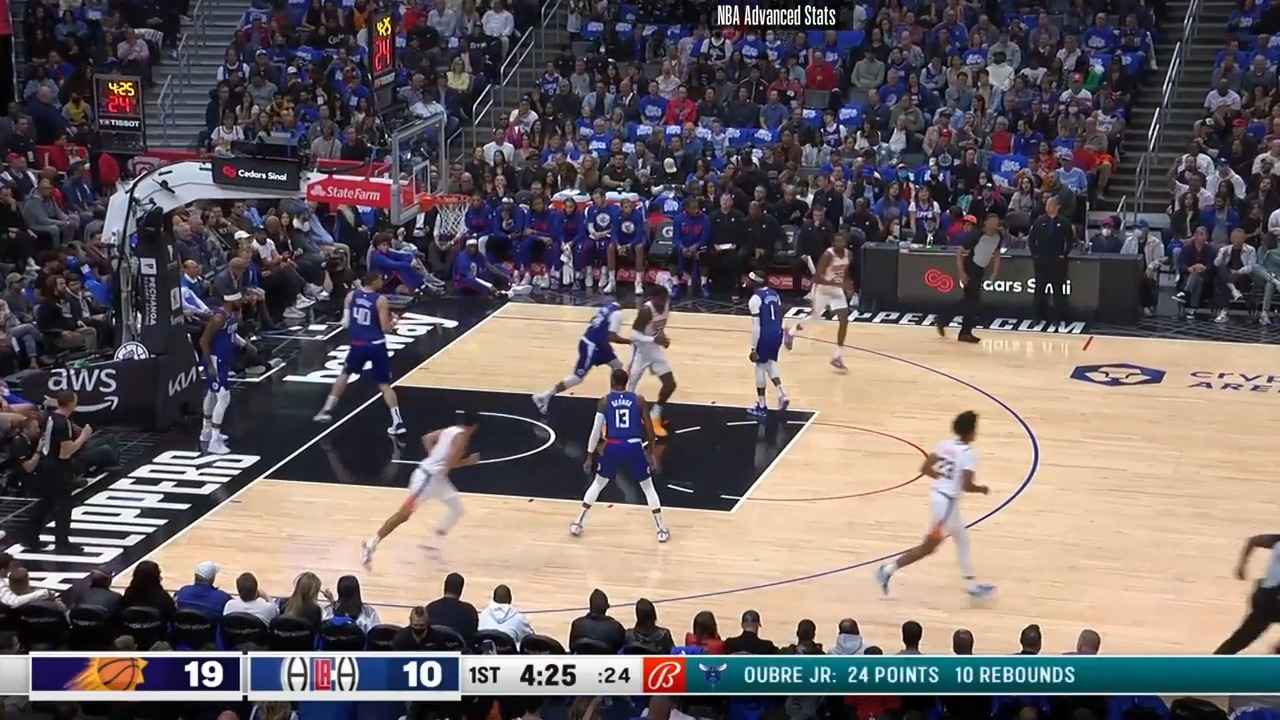net: (419, 190, 472, 232)
player: (880, 410, 1003, 608), (364, 411, 488, 572), (568, 367, 670, 545), (322, 270, 412, 442), (533, 288, 645, 415), (792, 234, 864, 377), (624, 289, 688, 430), (191, 291, 245, 458), (740, 271, 795, 423)
referee: (22, 387, 91, 555), (1213, 516, 1280, 657), (943, 215, 1007, 349)
